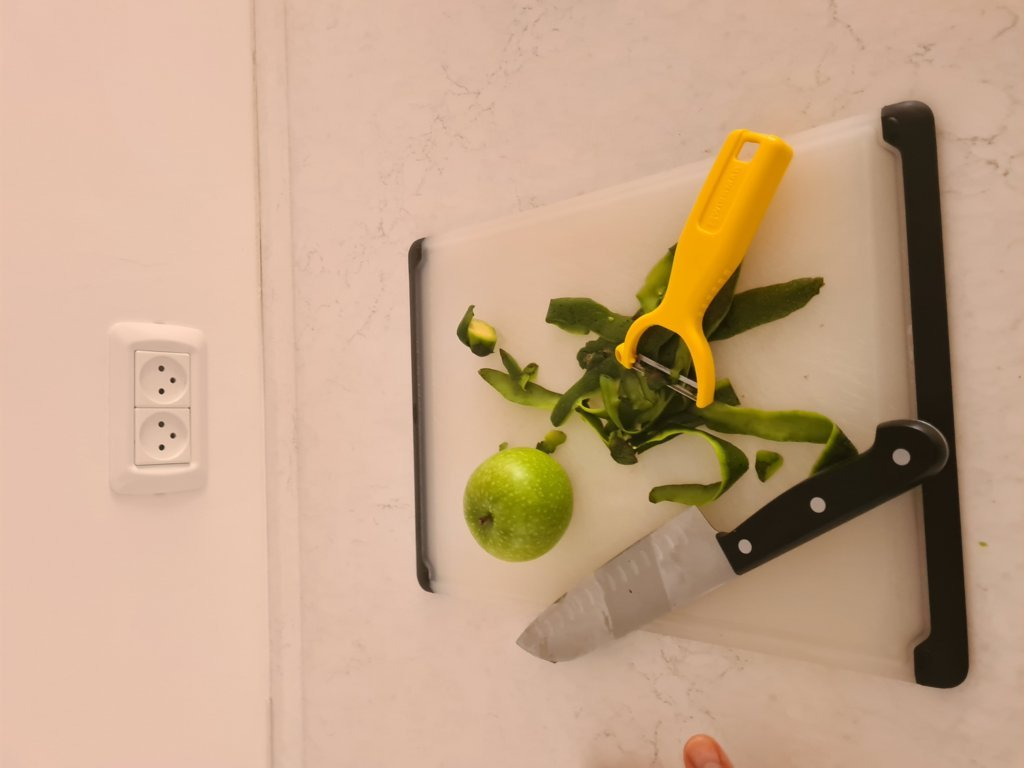apple: (464, 449, 571, 552)
